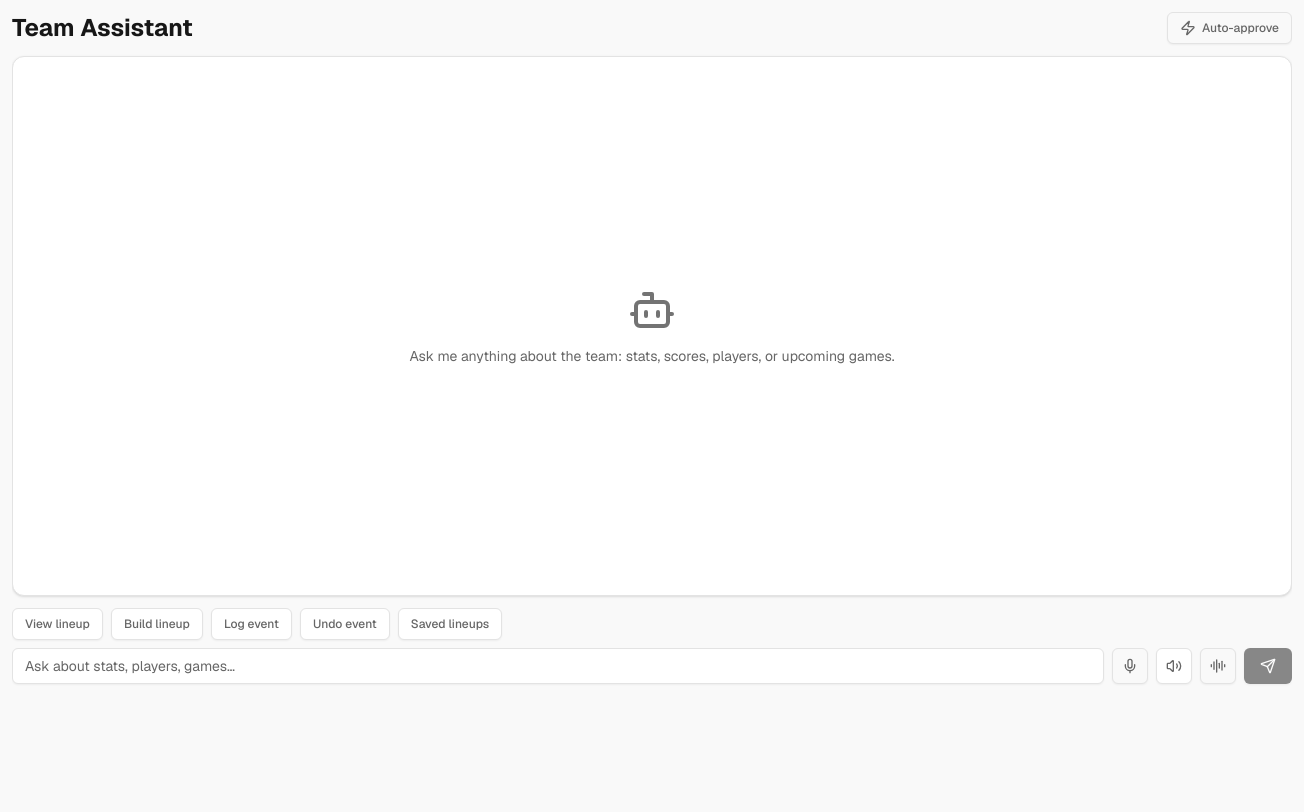
Test: Chat inline proposal cards › Decline settles the card without any confirm request
Expected: the text "Ask me anything about the team" is shown, [409, 347, 895, 365]
In the field with placeholder "Ask about stats, players, games…": (558, 666) [12, 648, 1104, 684], type "put maya on line 1"
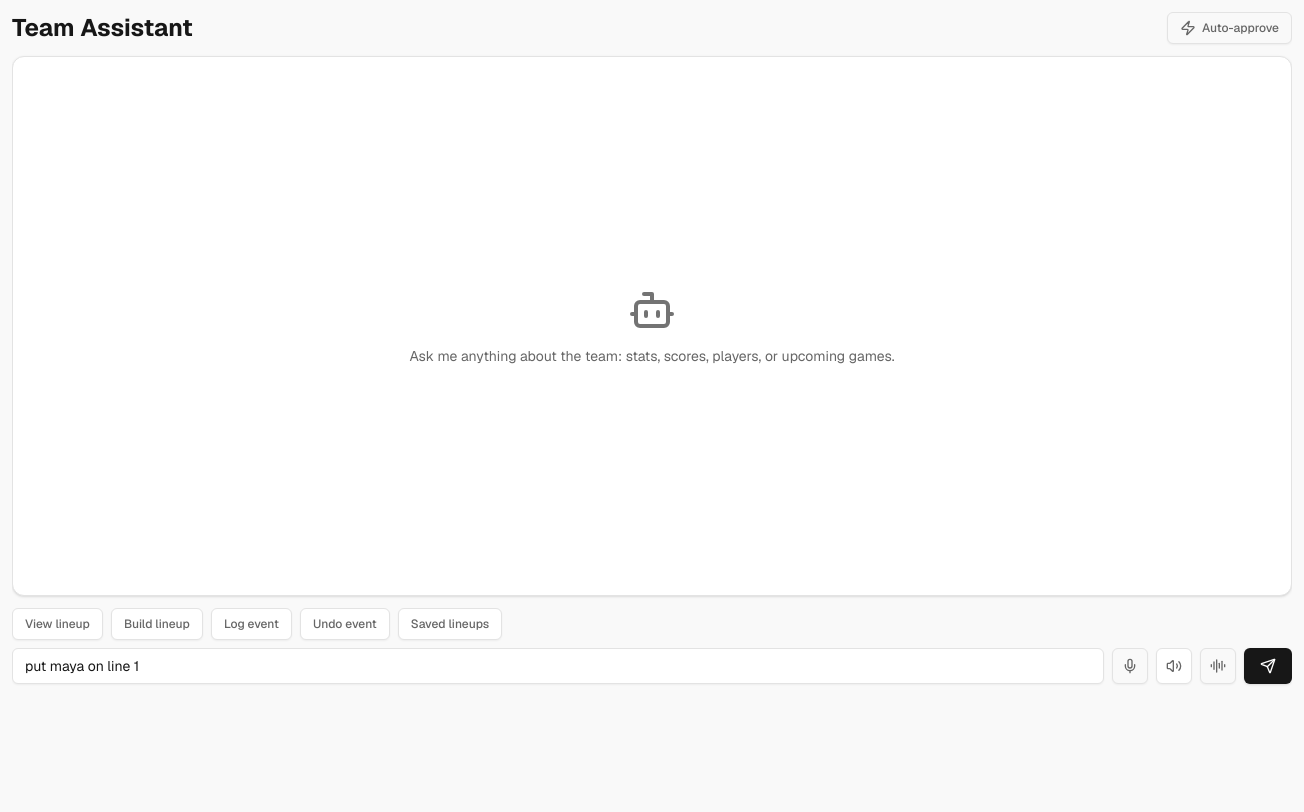
Press Enter in the field with placeholder "Ask about stats, players, games…", box [12, 648, 1104, 684]
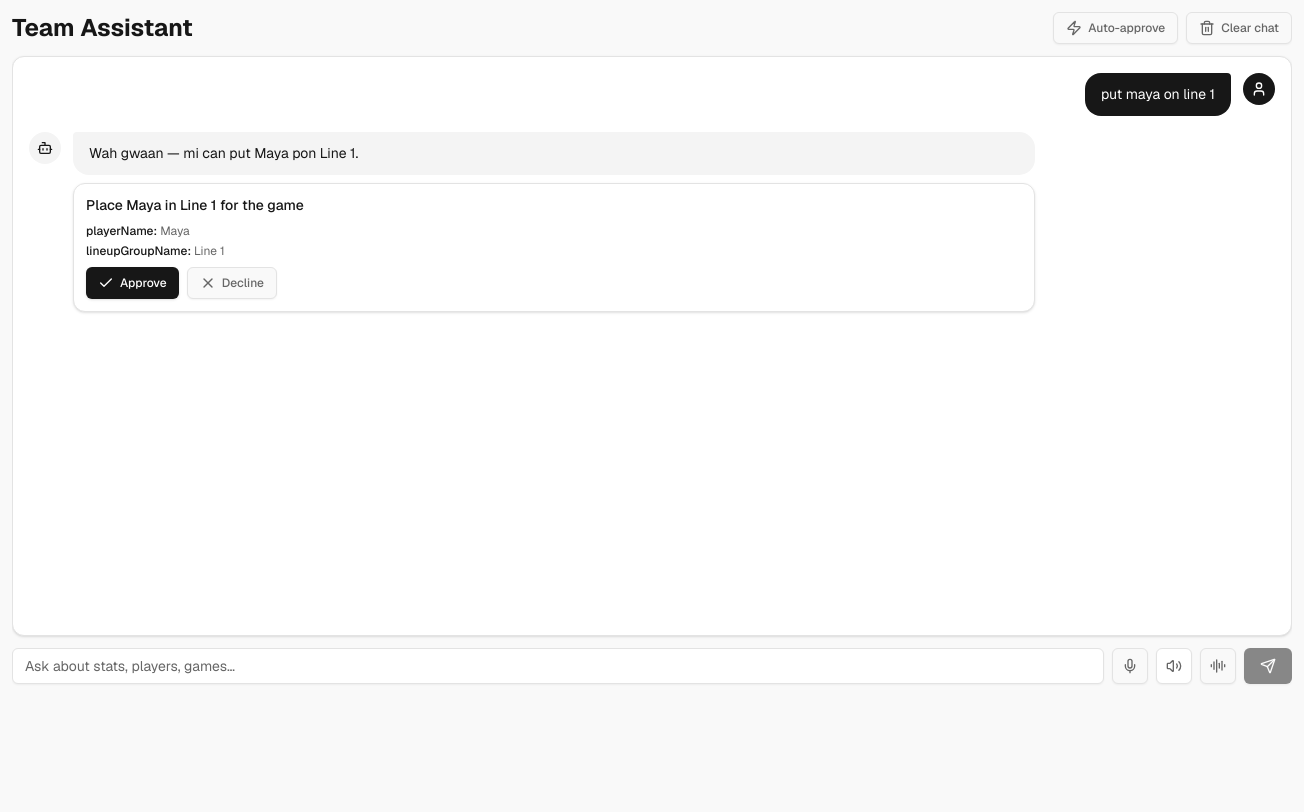
Result: the button "Decline" is shown
Click the button "Decline": (232, 283) [187, 267, 277, 299]
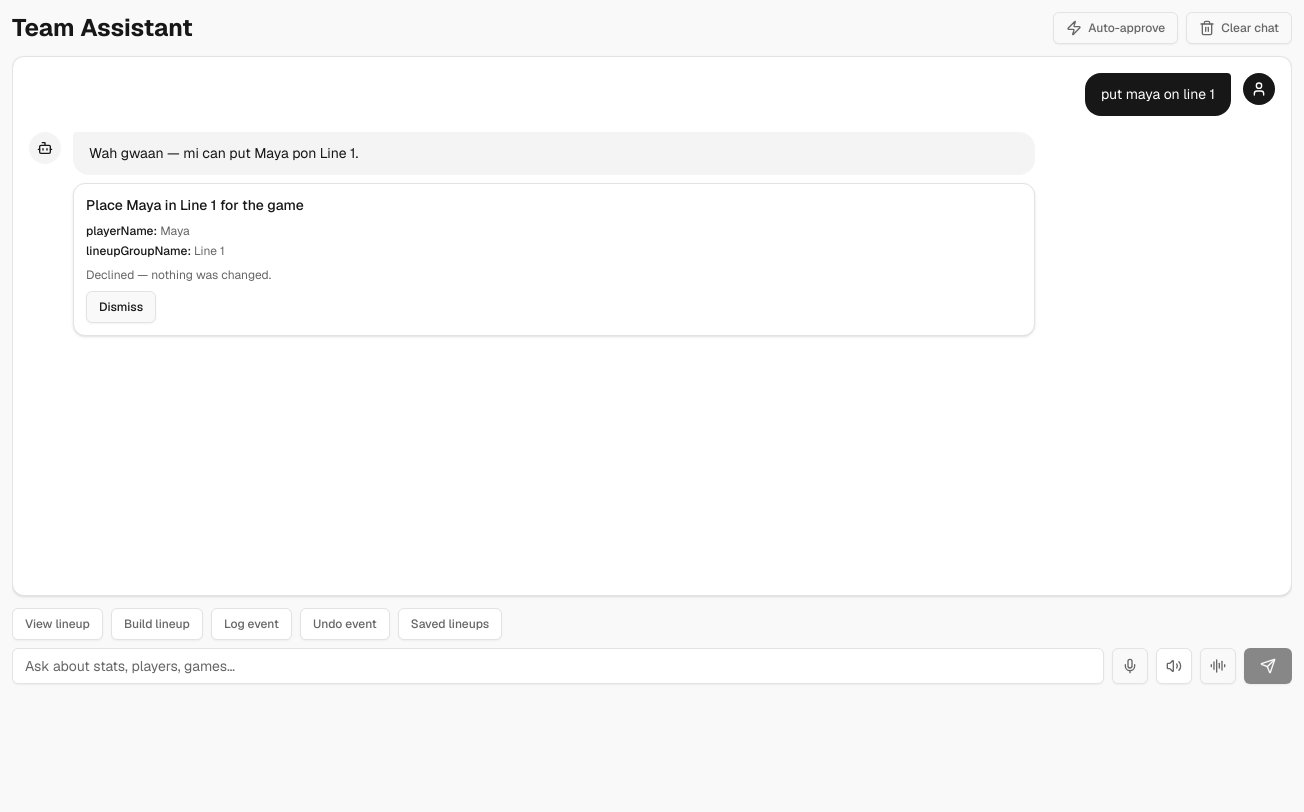
Result: the text "Declined — nothing was changed." is shown at [86, 267, 271, 283]
Result: the button "Dismiss" is shown at [86, 291, 156, 323]
